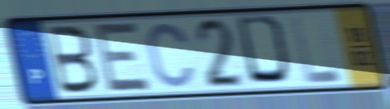2: (195, 17, 247, 89)
B: (45, 24, 101, 96)
C: (145, 20, 197, 90)
D: (233, 14, 295, 89)
E: (93, 20, 154, 95)
L: (289, 13, 345, 86)
